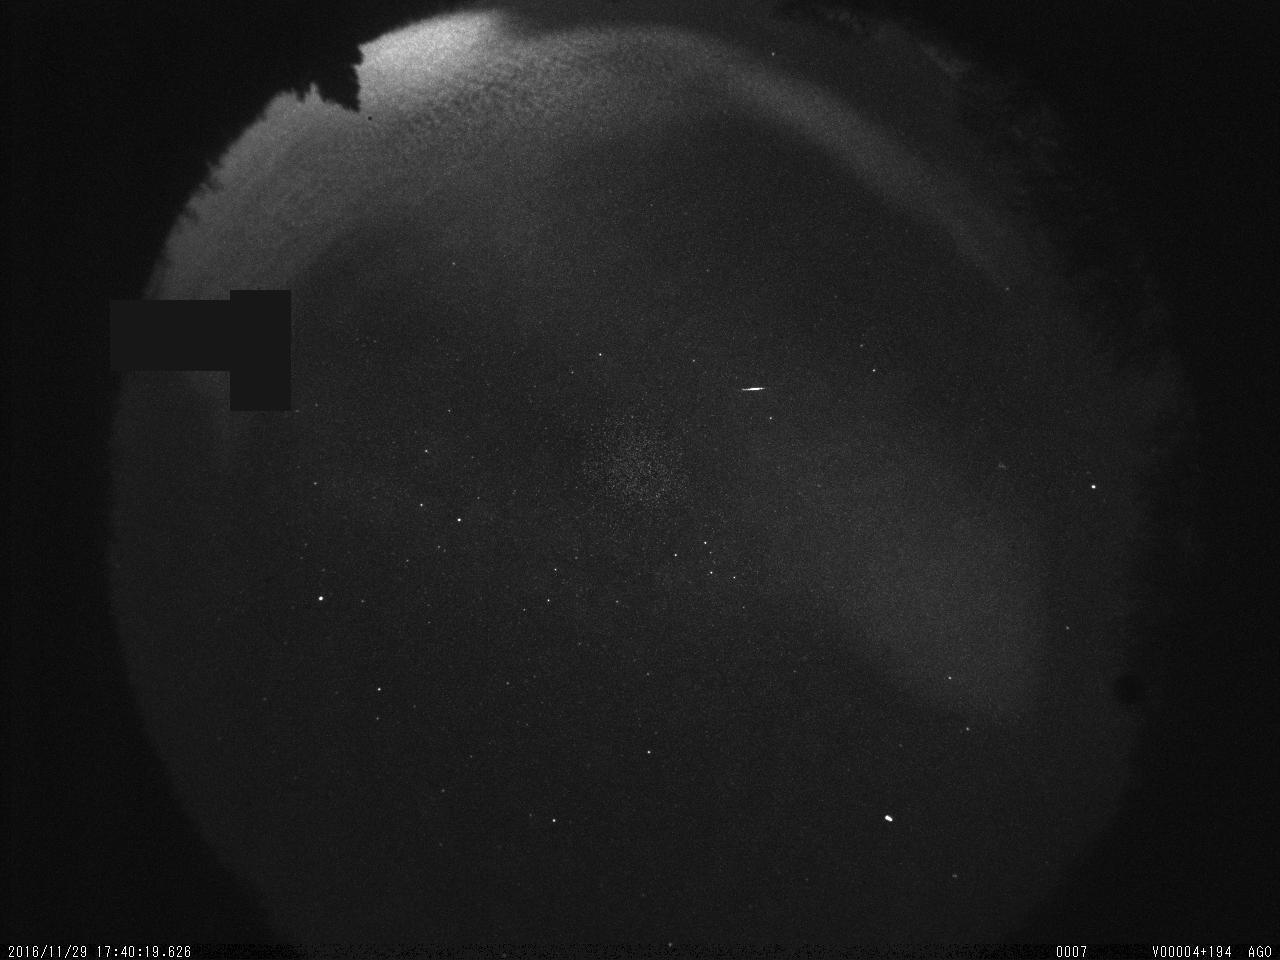meteor: (727, 378, 781, 399)
